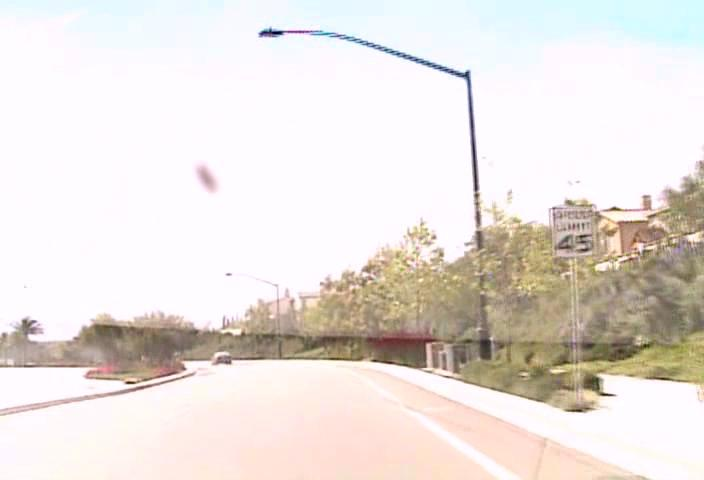speedLimit45: (551, 205, 597, 257)
